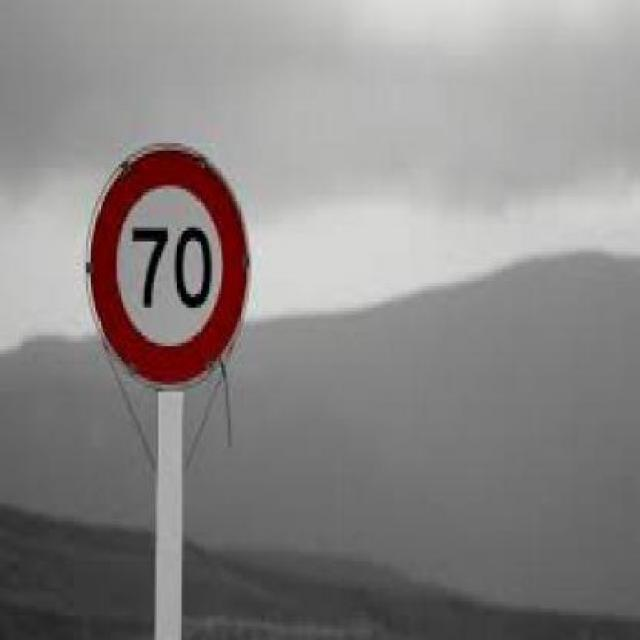speed limit 70: (87, 144, 250, 389)
